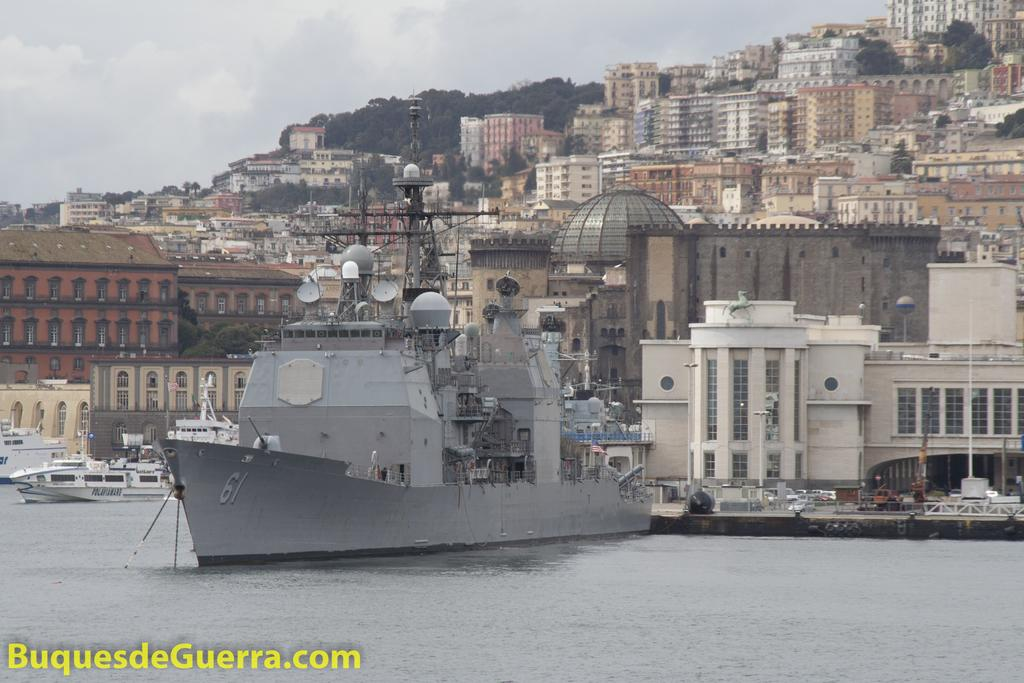Warship: (154, 92, 656, 574)
